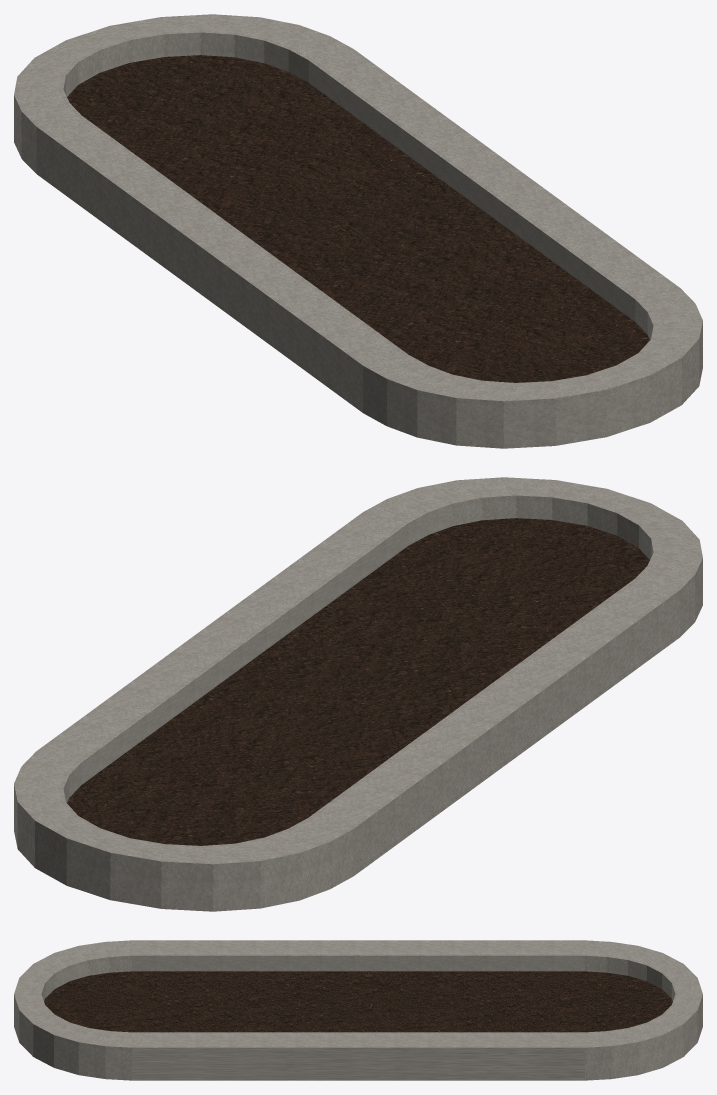
Rendered from bon hoa A1.fbx.
3 views of the same model, one above another, from view 1: azimuth 30°, elevation 25°; view 2: azimuth 150°, elevation 25°; view 3: azimuth 270°, elevation 25° (orthographic). The views are drawn at different scales.
Visible parts, largest first — view 1: Object.001; view 2: Object.001; view 3: Object.001.
Boxes of the visible parts, left/top/right/bottom form: Object.001: left=14, top=14, right=702, bottom=448; Object.001: left=14, top=477, right=702, bottom=911; Object.001: left=14, top=940, right=702, bottom=1080.
Size of the model in its own units: 1400 by 201 by 3795.
2 materials, 2 textured.
